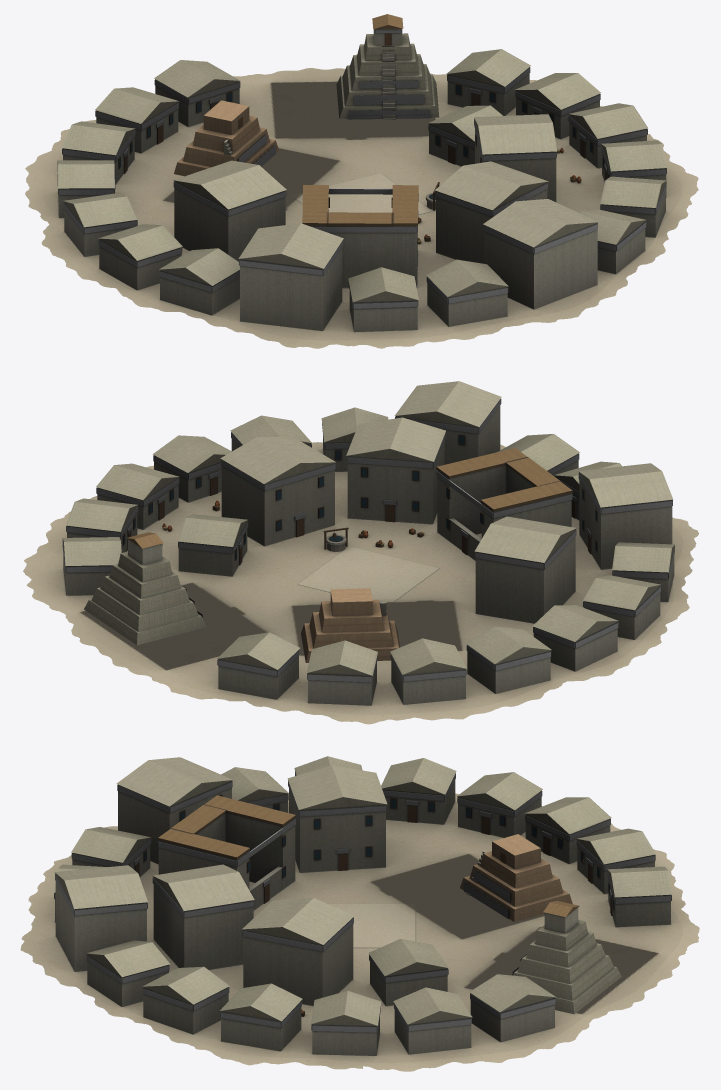
File: classical-town-big-b-americas.glb
The picture shows the model from 3 angles, top to bottom: view 1: azimuth 30°, elevation 25°; view 2: azimuth 150°, elevation 25°; view 3: azimuth 270°, elevation 25°; orthographic projection.
Visible parts, largest first — view 1: LOD0; view 2: LOD0; view 3: LOD0.
Part boxes in pixels (left/top/right/bottom): LOD0: left=25, top=14, right=698, bottom=348; LOD0: left=23, top=381, right=698, bottom=724; LOD0: left=20, top=756, right=699, bottom=1071.
Size of what is drawn, in the model's own units: 7.94 by 1.08 by 7.95.
Materials: 3 (3 with a texture image).
